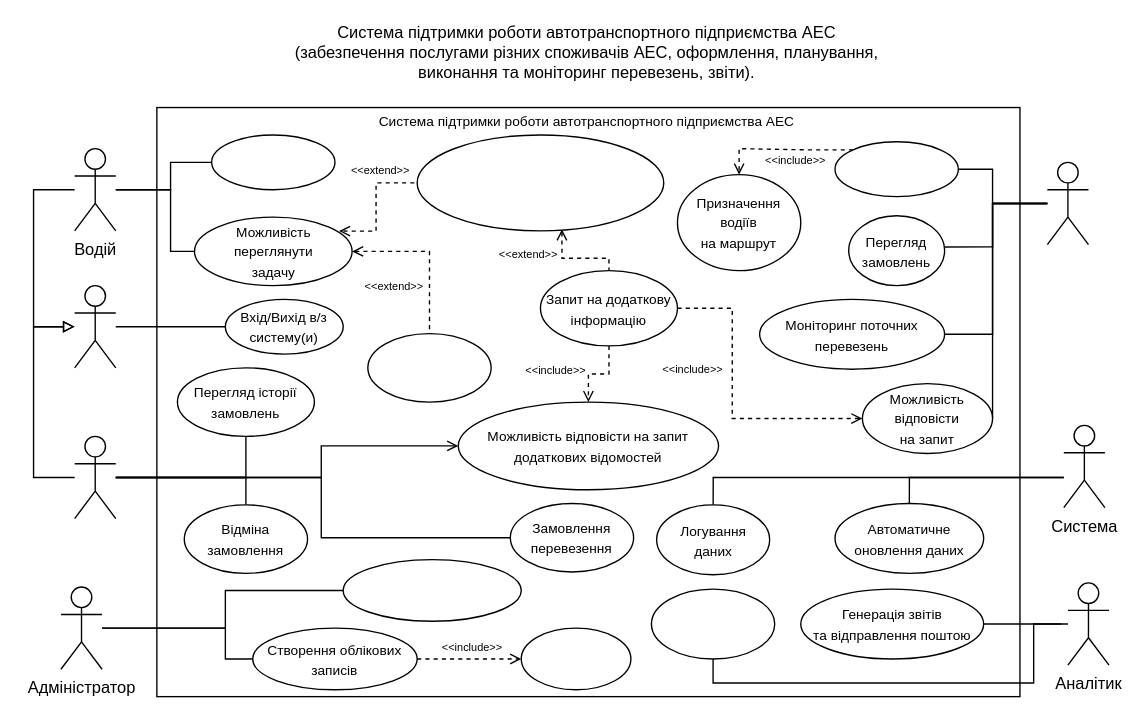
Image size: 1145x722. Some labels were removed from this diagram. The shapes that lost their labels are listed below. From the top down, each one's centre as x and y in pixels, then its label:
the point at 272,162: Оновлення списку задач
the point at 540,182: Отримання додаткових відомостей по задачі (деталі маршруту, тощо)
the point at 896,168: Створення маршруту
the point at 1067,203: Диспетчер
the point at 94,326: Співробітник АЕС
the point at 428,367: Оновлення статусу задачі
the point at 94,477: Споживач послуг
the point at 431,589: Редагування облікових записів
the point at 712,623: Прогнозування навантаження
the point at 575,658: Призначення ролей
